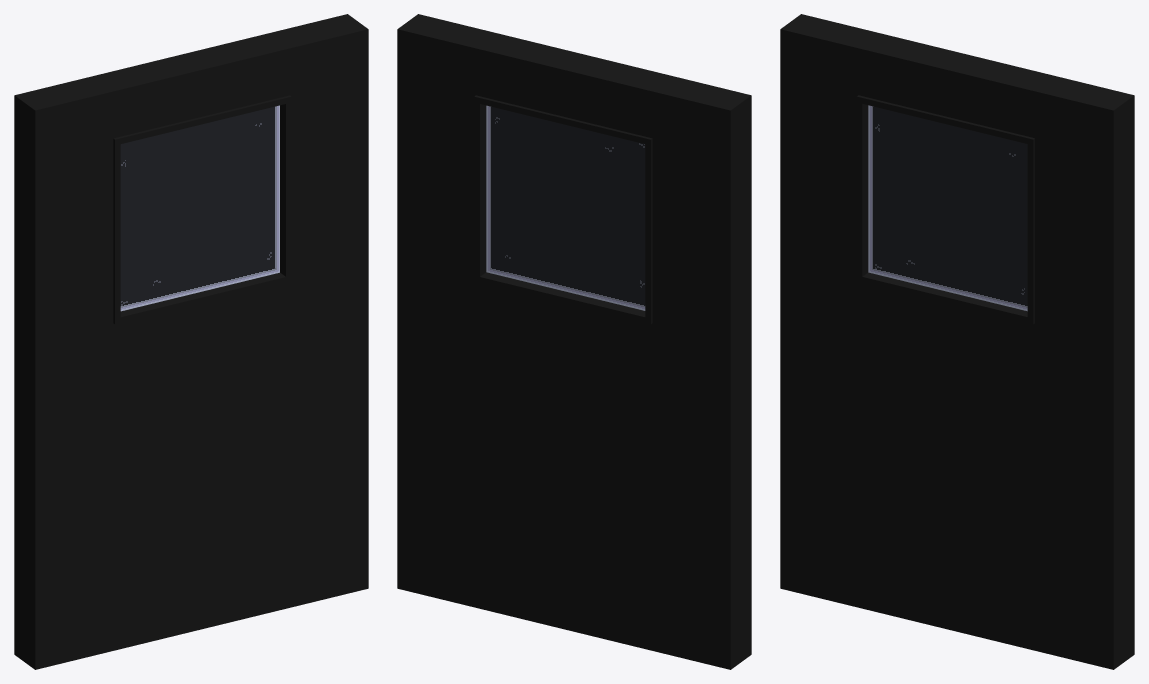
The model's file is Door.glb.
3 renders of one model, left to right at view 1: azimuth 30°, elevation 25°; view 2: azimuth 150°, elevation 25°; view 3: azimuth 330°, elevation 25°, orthographic.
Parts seen in each view (by area): view 1: Door; view 2: Door; view 3: Door.
Boxes of the visible parts, <box> form: Door: <box>14,14,368,669</box>; Door: <box>397,14,751,669</box>; Door: <box>780,14,1134,669</box>.
Size of the model in its own units: 3.22 by 5.17 by 0.409.
2 materials, 1 textured.
